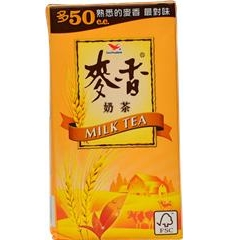milk tea: (45, 5, 184, 239)
